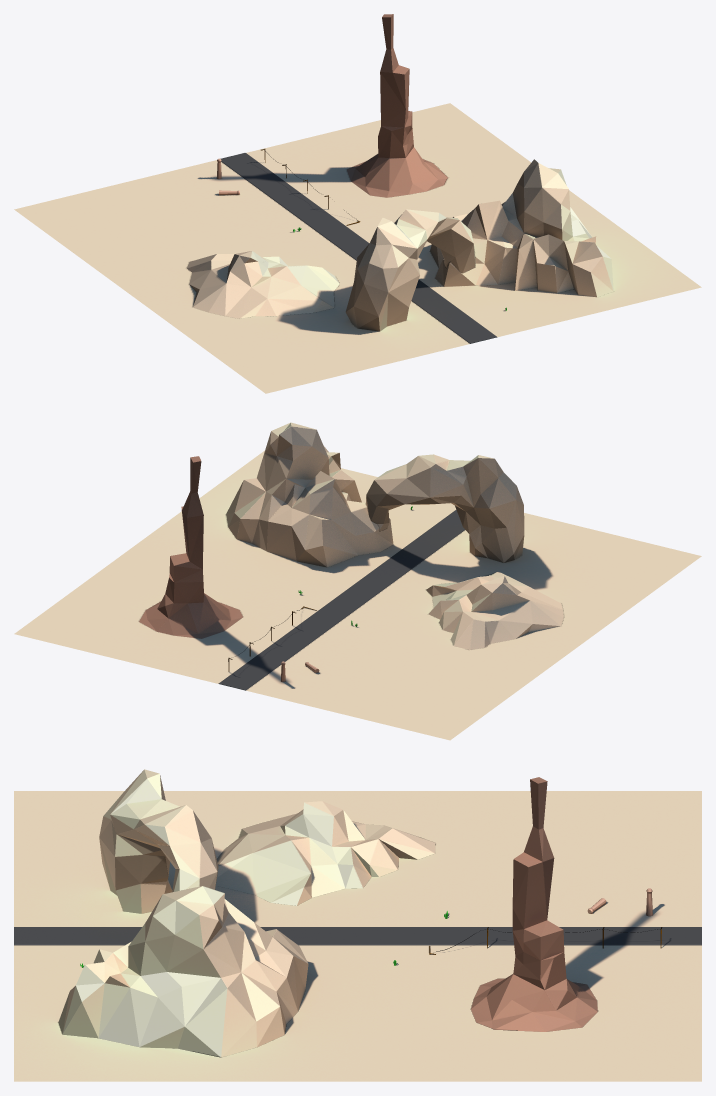
File: GHL_Module1.fbx
3 views of the same model, one above another, from view 1: azimuth 30°, elevation 25°; view 2: azimuth 150°, elevation 25°; view 3: azimuth 270°, elevation 25° (orthographic). The views are drawn at different scales.
Visible parts, largest first — view 1: Base_plane.002; view 2: Base_plane.002; view 3: Base_plane.002.
Part boxes in pixels (x1,y1,x2,y2): Base_plane.002: (14, 14, 701, 393); Base_plane.002: (14, 422, 701, 740); Base_plane.002: (14, 769, 701, 1081).
Bounding box in the file's own units: 1200 × 426 × 1200.
Materials: 1 (1 with a texture image).
